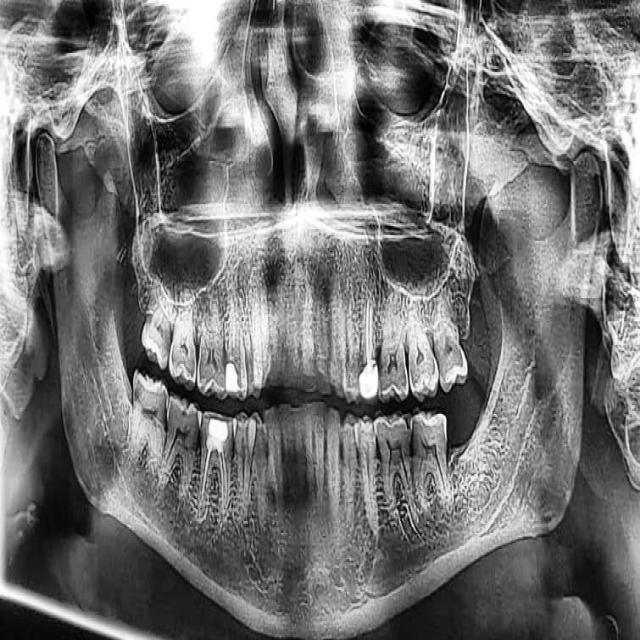karies: (202, 410, 234, 460), (355, 352, 385, 402), (216, 356, 247, 401)
